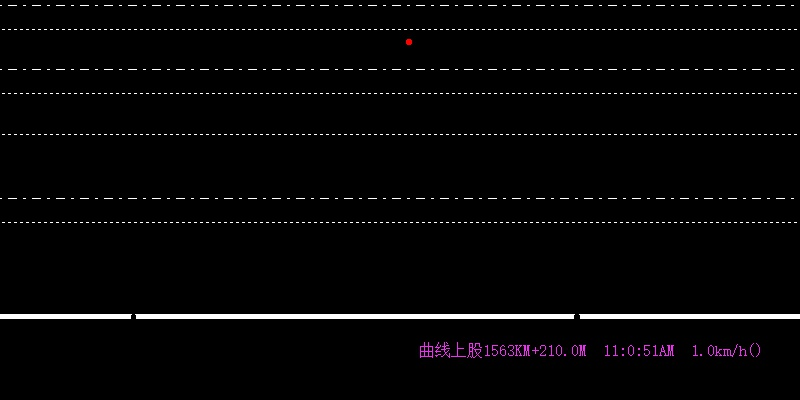face_down: (403, 25, 415, 47)
